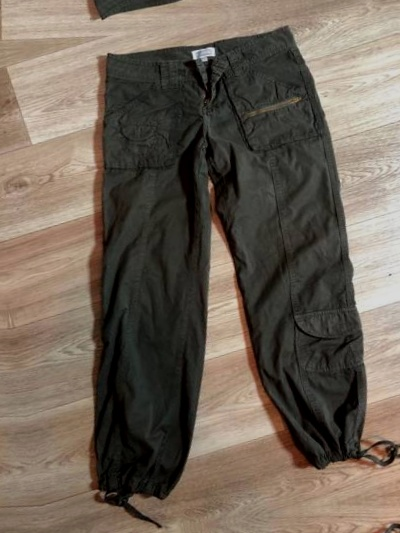Pants: (10, 28, 400, 529), (90, 507, 400, 533), (0, 0, 332, 23), (0, 96, 7, 533)
